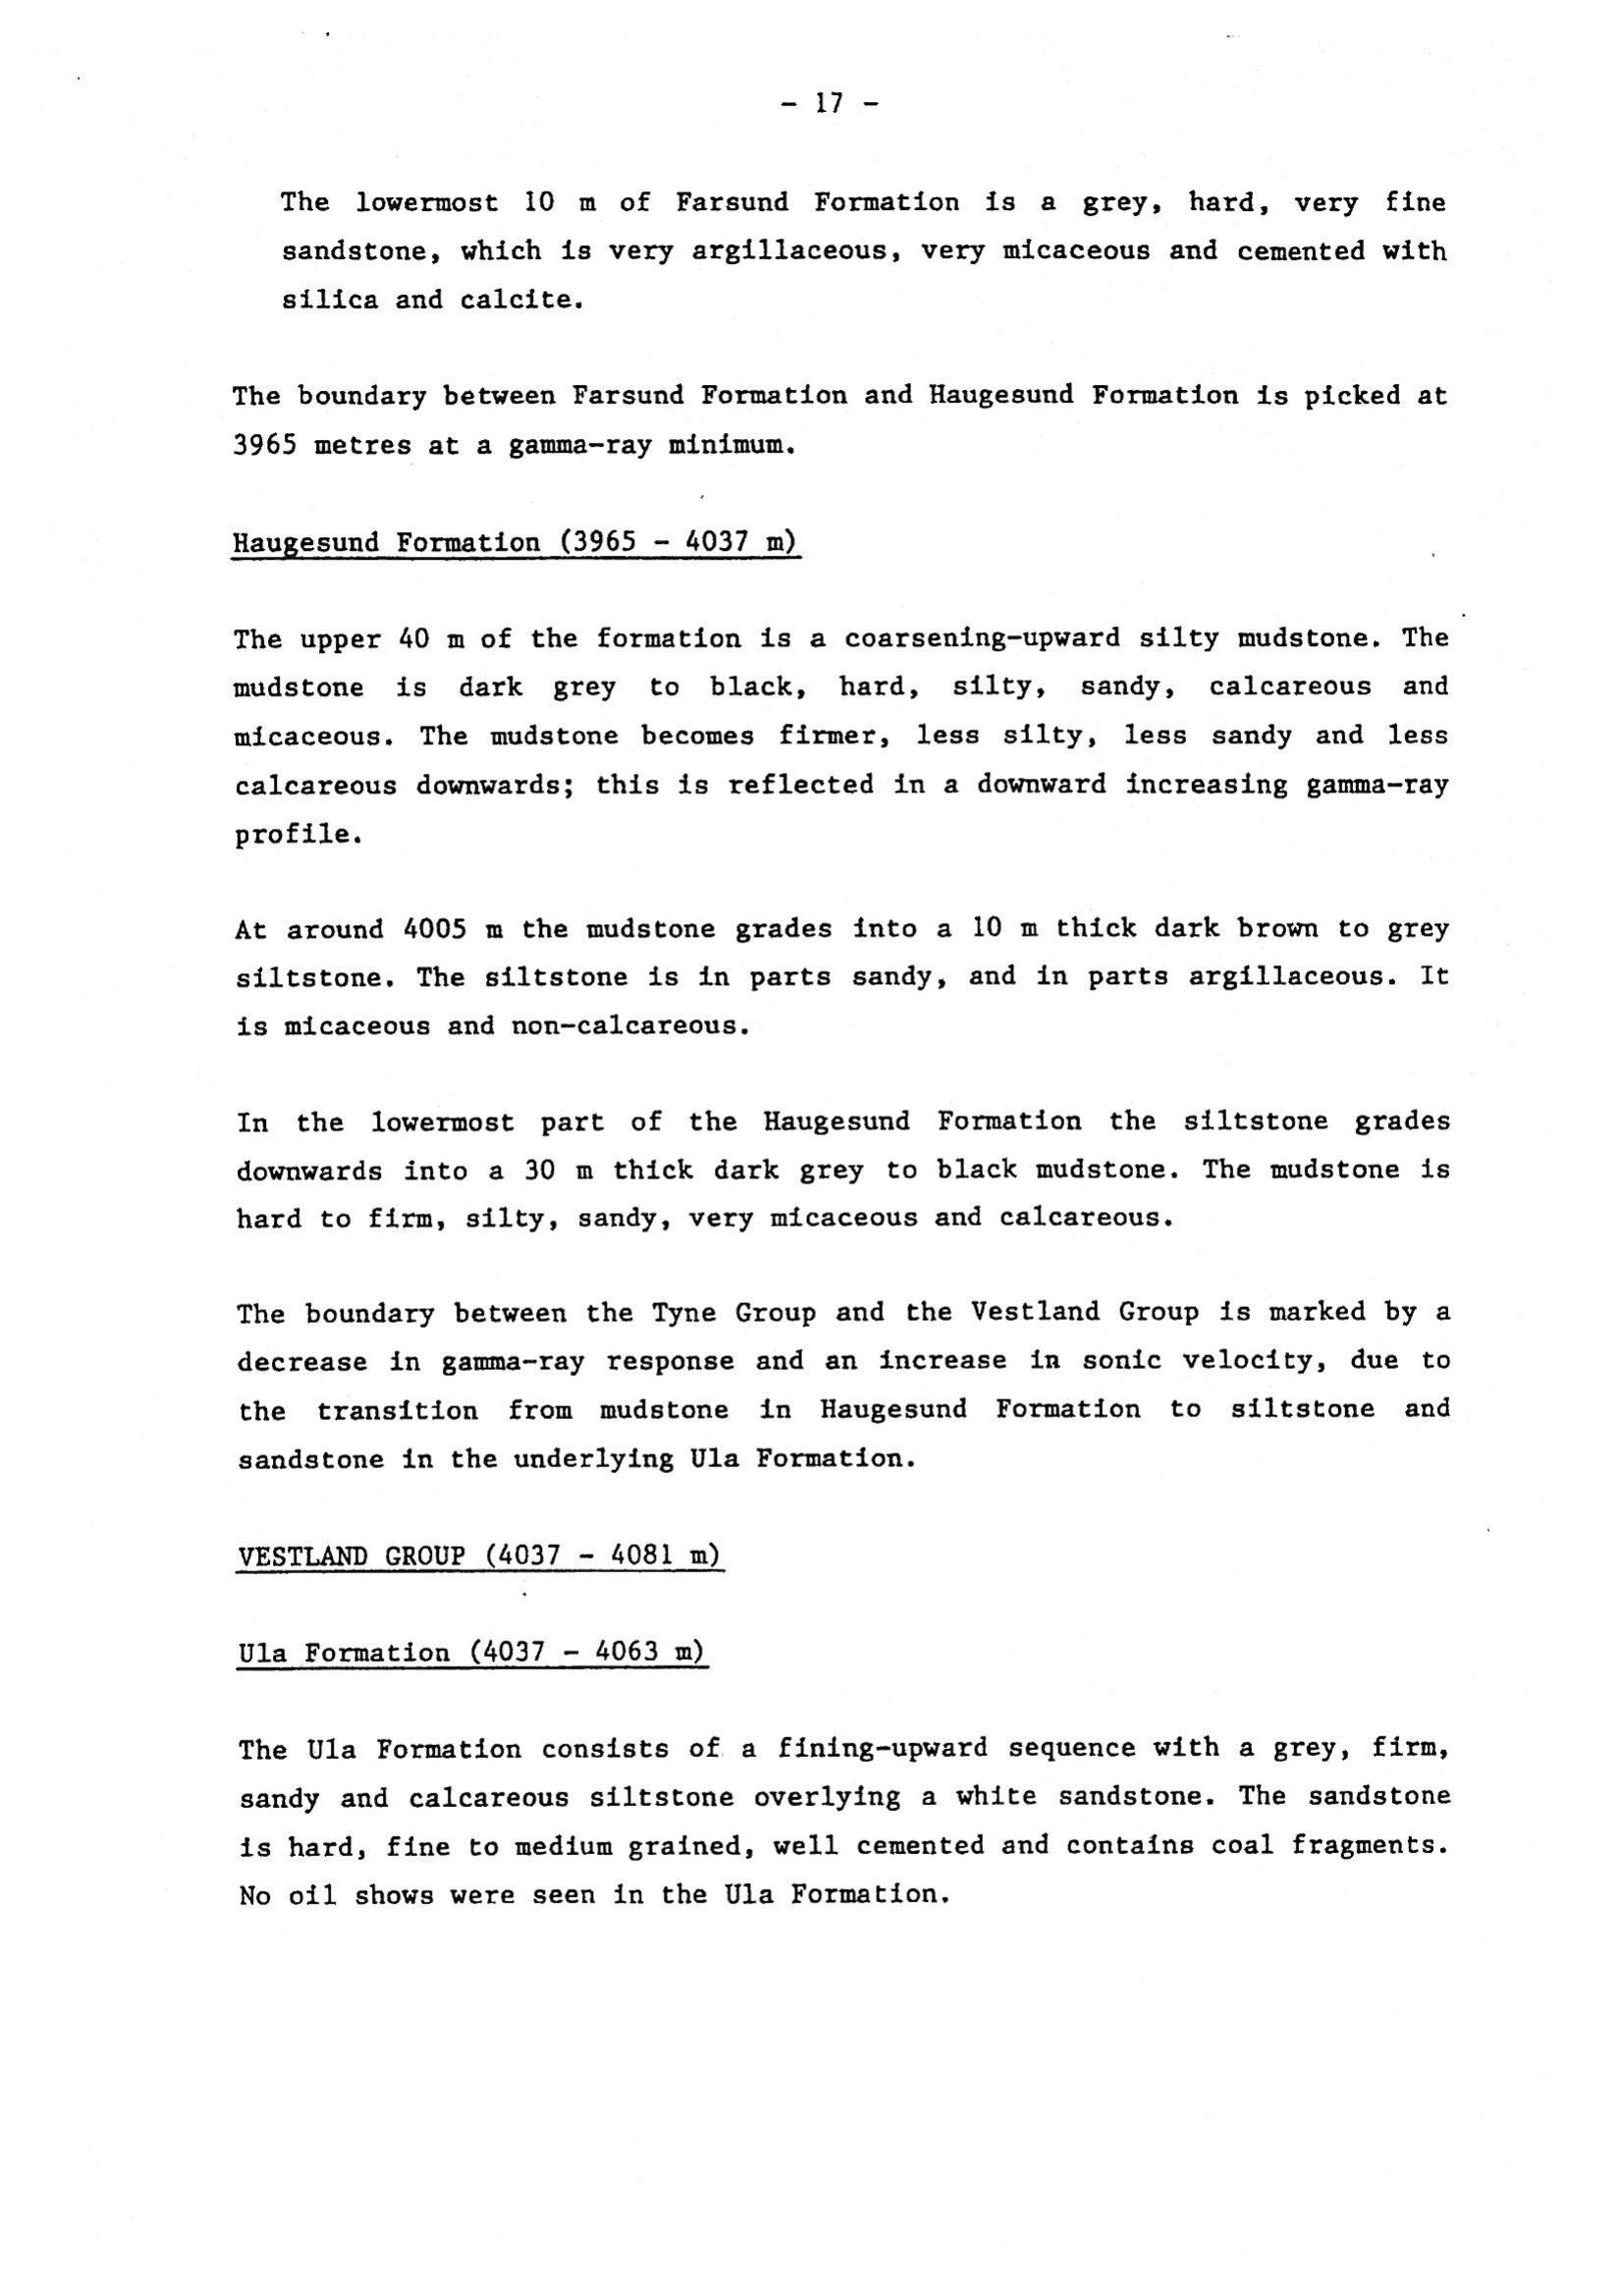text: (163, 163, 1523, 1952)
